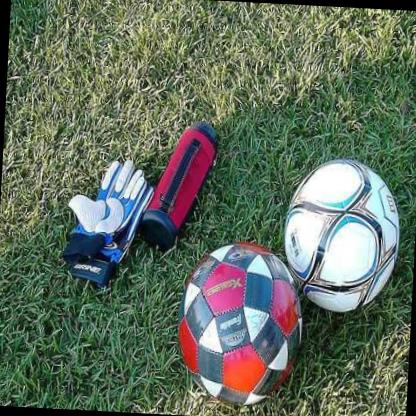ball: (174, 239, 306, 408), (280, 155, 403, 316)
